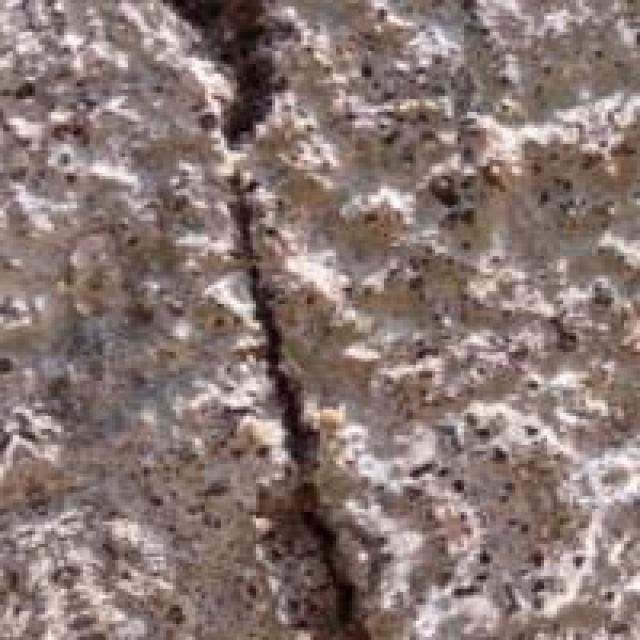crack: (160, 3, 384, 637)
